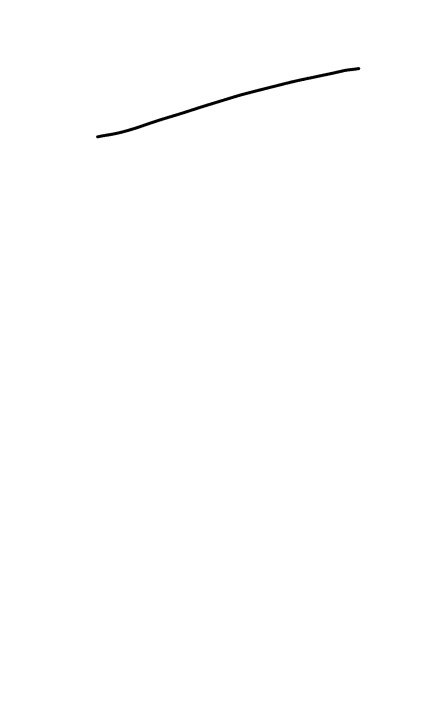Line: (89, 63, 365, 142)
